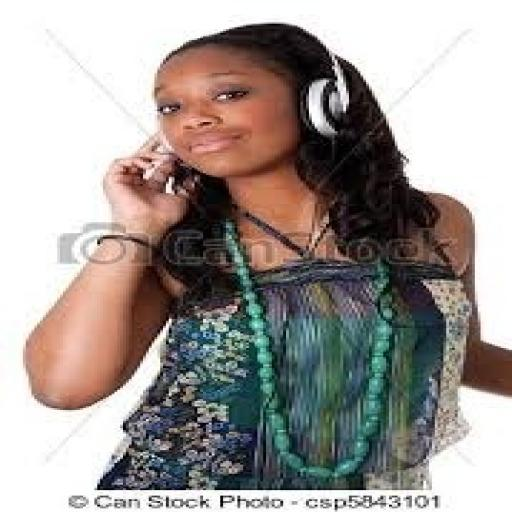listening_to_music: (20, 20, 481, 490)
